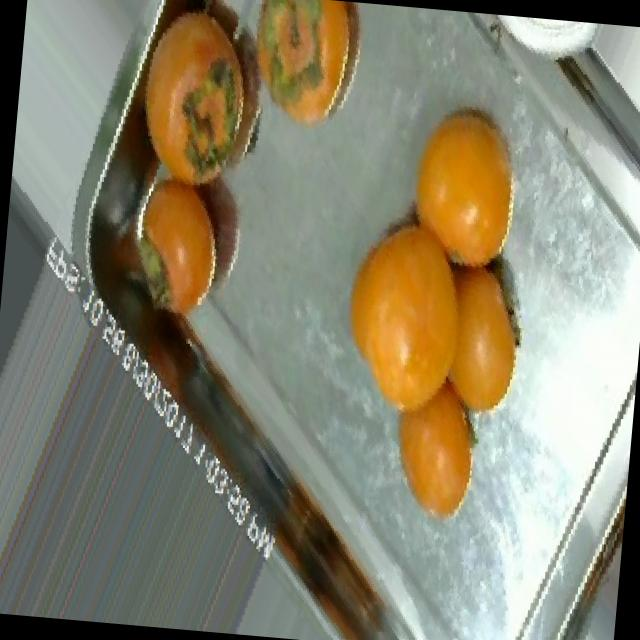Fruit: (374, 66, 546, 294), (368, 360, 500, 542), (241, 0, 379, 150)
